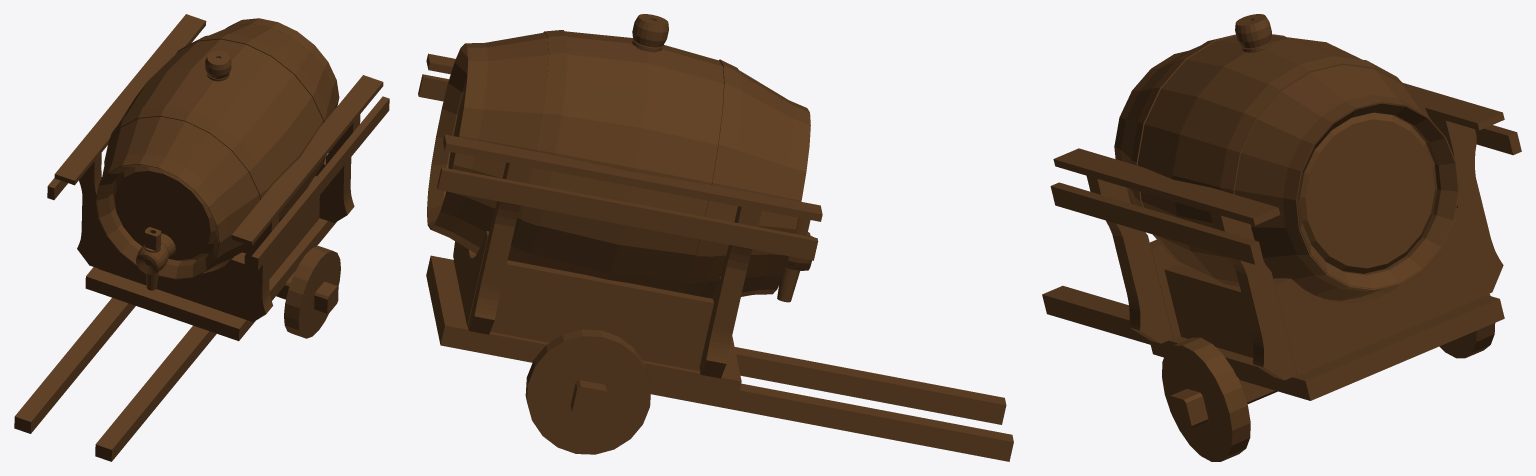
File: barril.glb
The picture shows the model from 3 angles, left to right: view 1: azimuth 30°, elevation 25°; view 2: azimuth 150°, elevation 25°; view 3: azimuth 270°, elevation 25°; orthographic projection. The views are drawn at different scales.
Parts seen in each view (by area): view 1: Barrel_Carriage_00; view 2: Barrel_Carriage_00; view 3: Barrel_Carriage_00.
Boxes of the visible parts, bbox=[...] form: Barrel_Carriage_00: bbox=[14, 14, 389, 461]; Barrel_Carriage_00: bbox=[418, 14, 1013, 461]; Barrel_Carriage_00: bbox=[1042, 14, 1521, 461].
Bounding box in the file's own units: 2.34 × 1.69 × 1.75.
